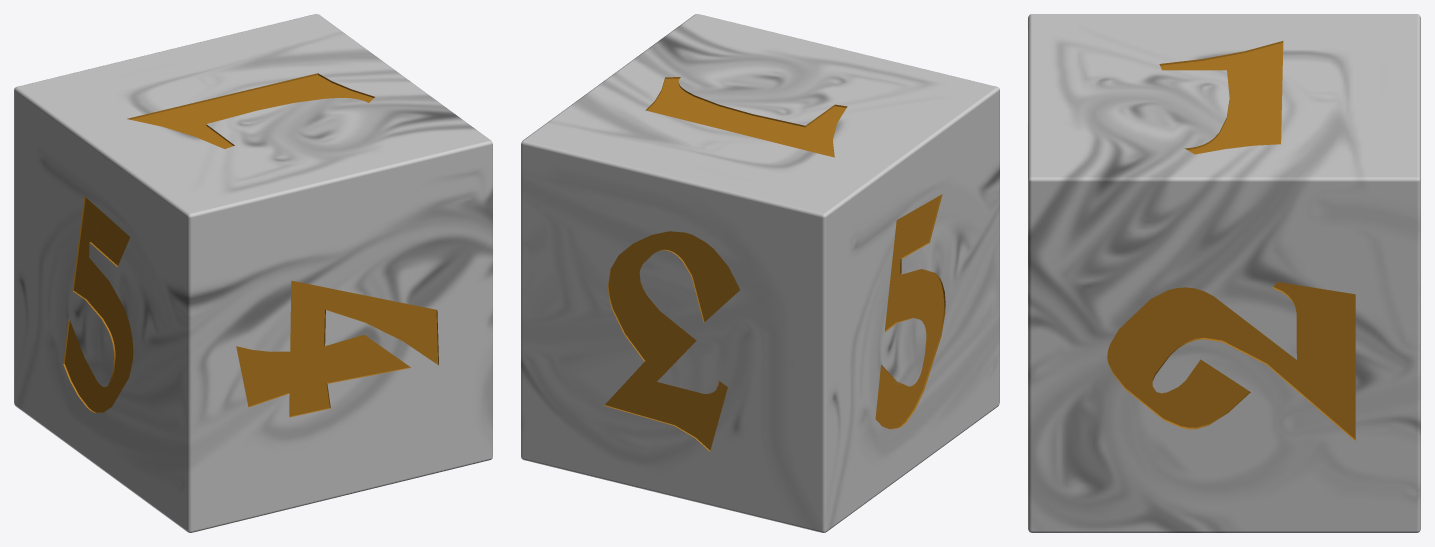
The model's file is D6-Marble.glb.
The picture shows the model from 3 angles, left to right: view 1: azimuth 30°, elevation 25°; view 2: azimuth 150°, elevation 25°; view 3: azimuth 270°, elevation 25°; orthographic projection. The views are drawn at different scales.
Visible parts, largest first — view 1: D6.marble-convcol; view 2: D6.marble-convcol; view 3: D6.marble-convcol.
Part boxes in pixels (x1,y1,x2,y2): D6.marble-convcol: [14, 14, 492, 532]; D6.marble-convcol: [521, 14, 999, 532]; D6.marble-convcol: [1028, 14, 1420, 532].
Size of the model in its own units: 2 by 2 by 2.
Materials: 1 (1 with a texture image).
